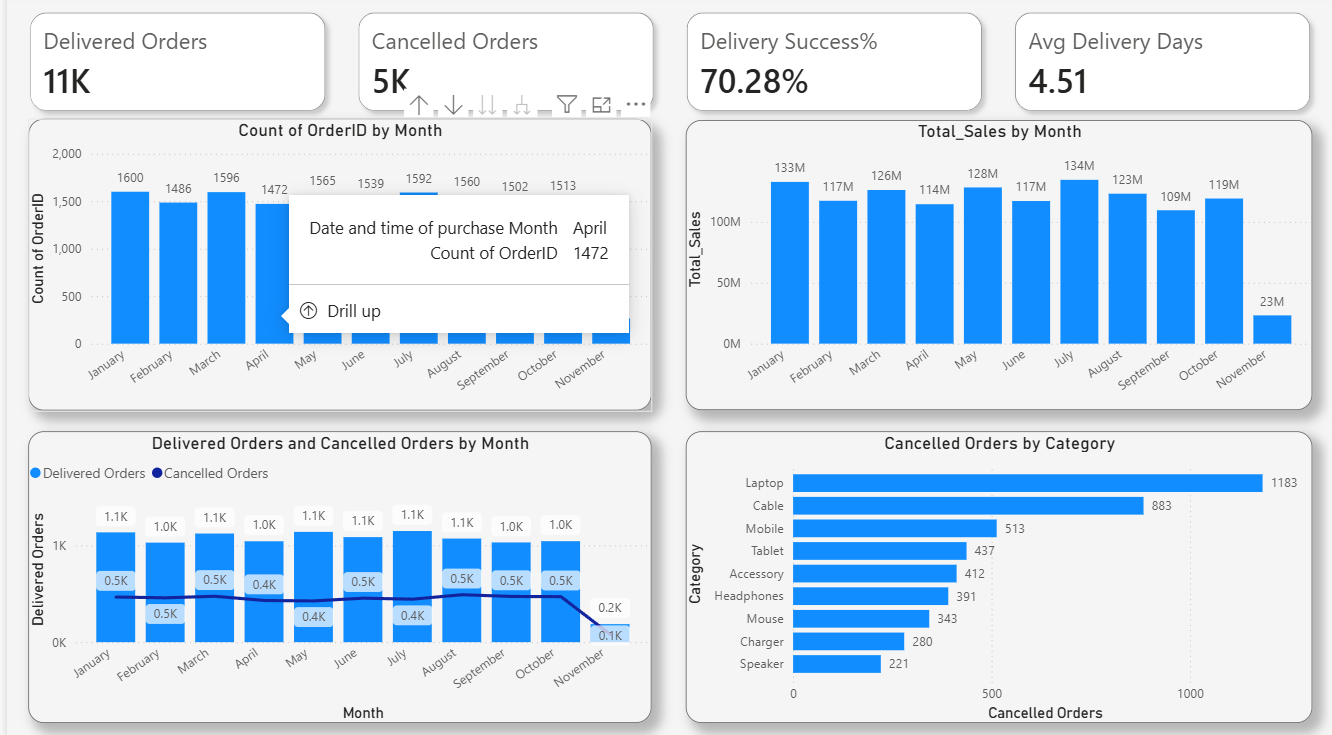

The dashboard page shown, as its layout file describes it:
{"tool":"powerbi","page":{"name":"Delivery Analysis","canvas":[1280,720],"ordinal":3},"visuals":[{"type":"cardVisual","fields":{"Data":["Orders.Delivered Orders","Orders.Cancelled Orders","Orders.Delivery Success Rate","Orders.Avg Delivery Days"]},"box":[0,0,1280.2,129.6],"z":0},{"type":"columnChart","fields":{"Category":["Orders.Date and time of purchase.Variation.Date Hierarchy.Quarter","Orders.Date and time of purchase.Variation.Date Hierarchy.Month"],"Y":["CountNonNull(Orders.OrderID)"]},"box":[21,119.8,601.2,281.5],"z":1000},{"type":"clusteredColumnChart","fields":{"Category":["Orders.Date and time of purchase.Variation.Date Hierarchy.Quarter","Orders.Date and time of purchase.Variation.Date Hierarchy.Month"],"Y":["Orders.Total_Sales"]},"box":[655.6,121,604.9,280.2],"z":2000},{"type":"lineClusteredColumnComboChart","fields":{"Category":["Orders.Date and time of purchase.Variation.Date Hierarchy.Month"],"Y":["Orders.Delivered Orders"],"Y2":["Orders.Cancelled Orders"]},"box":[21,421,601.2,281.5],"z":3000},{"type":"clusteredBarChart","fields":{"Category":["Product.Category"],"Y":["Orders.Cancelled Orders"]},"box":[655.6,421,604.9,281.5],"z":4000}]}

Visuals, with their boxes in screenshot pixels (x1, y1, x2, y2), scaled from the page's 1280x720 canvas onto the 1332x735 screenshot:
cardVisual - Orders.Delivered Orders x Orders.Cancelled Orders: (x1=0, y1=0, x2=1331, y2=132)
columnChart - Orders.Date and time of purchase.Variation.Date Hierarchy.Quarter x Orders.Date and time of purchase.Variation.Date Hierarchy.Month: (x1=22, y1=122, x2=647, y2=410)
clusteredColumnChart - Orders.Date and time of purchase.Variation.Date Hierarchy.Quarter x Orders.Date and time of purchase.Variation.Date Hierarchy.Month: (x1=682, y1=124, x2=1312, y2=410)
lineClusteredColumnComboChart - Orders.Date and time of purchase.Variation.Date Hierarchy.Month x Orders.Delivered Orders: (x1=22, y1=430, x2=647, y2=717)
clusteredBarChart - Product.Category x Orders.Cancelled Orders: (x1=682, y1=430, x2=1312, y2=717)
